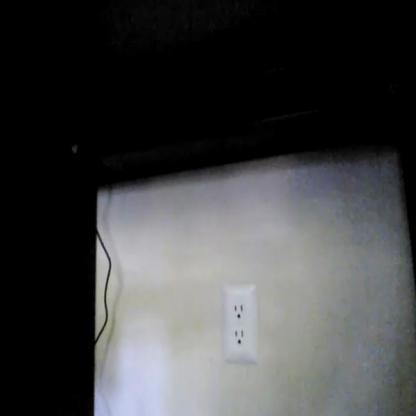OUTLET: (224, 282, 256, 362)
